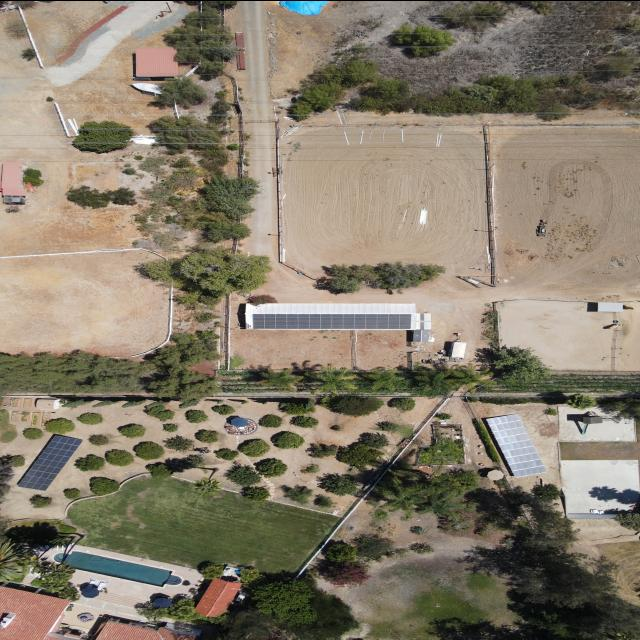solar-panels: (17, 424, 84, 501), (486, 403, 548, 485), (252, 313, 412, 328)
